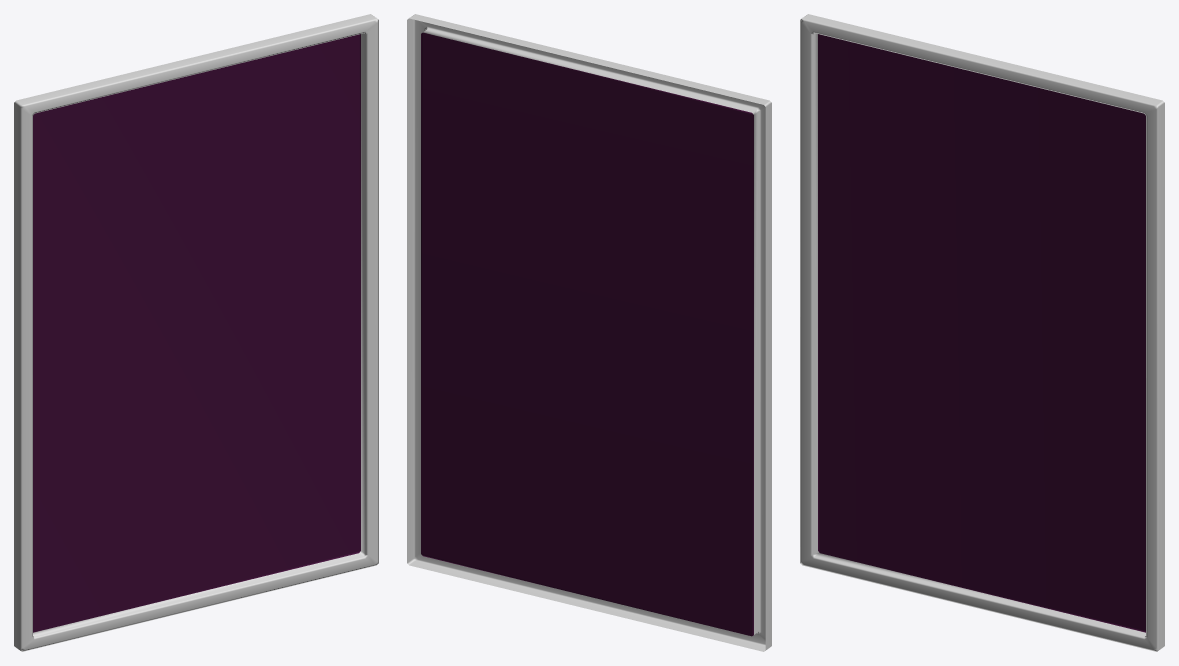
Rendered from Mirror.FBX.
3 views of the same model, side by side, from view 1: azimuth 30°, elevation 25°; view 2: azimuth 150°, elevation 25°; view 3: azimuth 330°, elevation 25° (orthographic).
Parts seen in each view (by area): view 1: Box016; view 2: Box016; view 3: Box016.
Boxes of the visible parts, <box> form: Box016: <box>14,14,378,651</box>; Box016: <box>407,14,771,651</box>; Box016: <box>800,14,1164,651</box>.
Size of the model in its own units: 9.97 by 14.53 by 0.3133.
